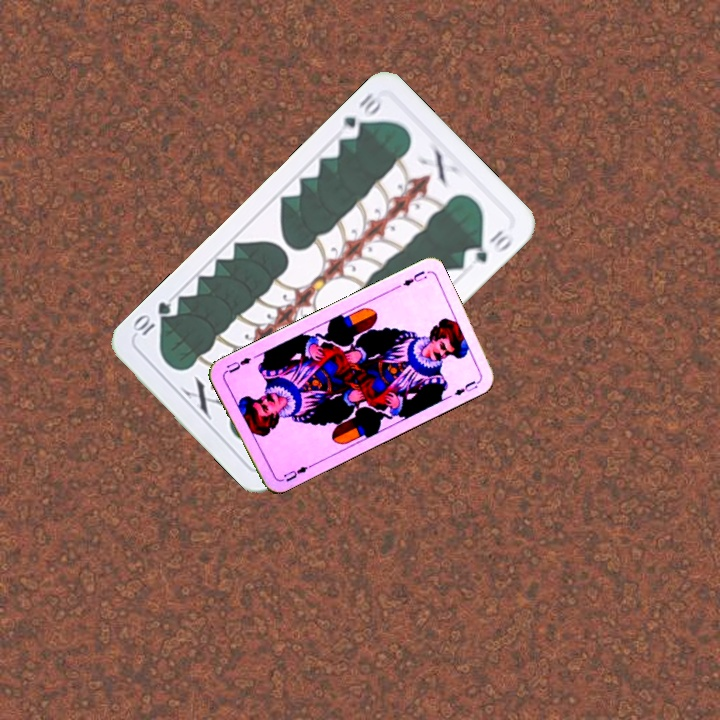EU: (276, 461, 314, 484), (399, 267, 430, 289)
G10: (334, 88, 384, 143)
